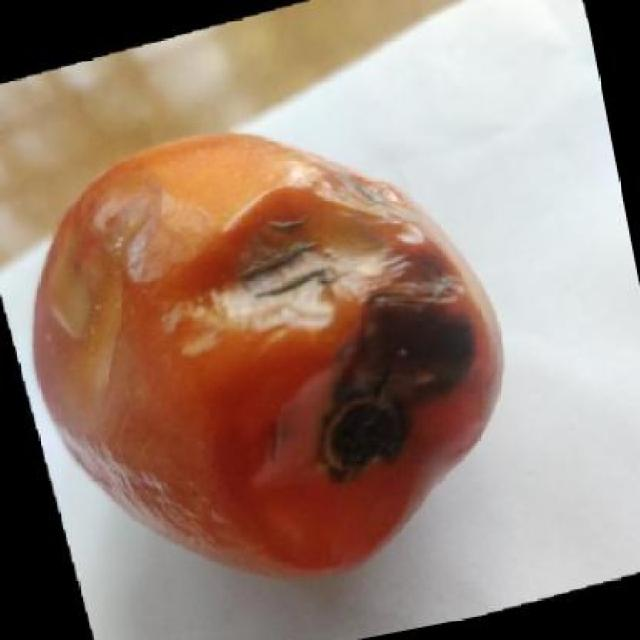overripe tomato: (26, 124, 520, 594)
